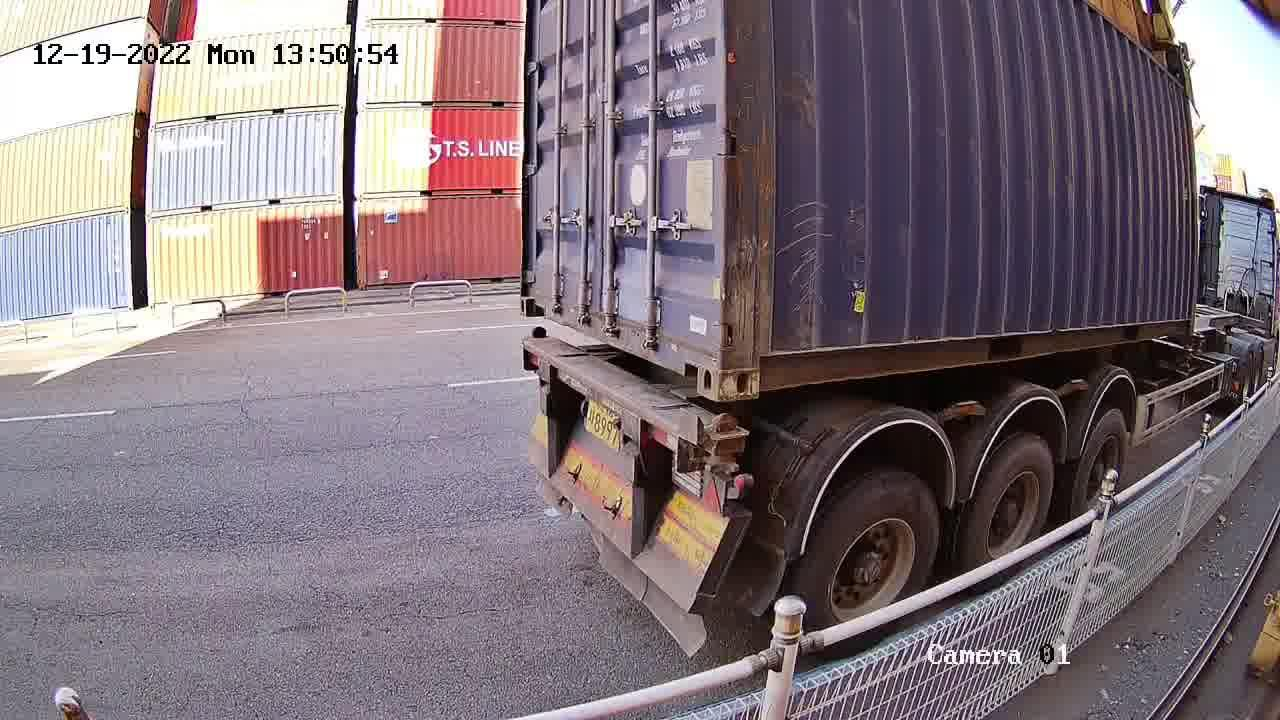Chassis: (525, 336, 735, 445)
Cone: (699, 413, 744, 476), (521, 324, 553, 359)
Hole_L: (715, 327, 790, 398), (520, 270, 556, 321)
Hole_R: (670, 318, 718, 400)
Tire: (803, 475, 941, 628), (968, 437, 1053, 563), (1076, 415, 1127, 510)
